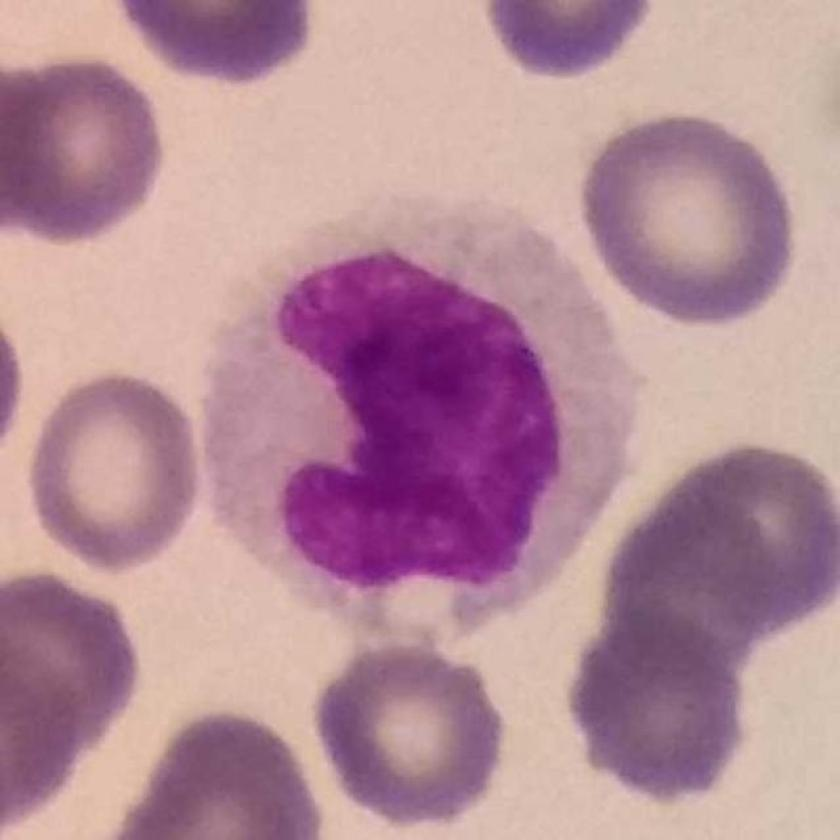monocyte: (199, 174, 642, 647)
